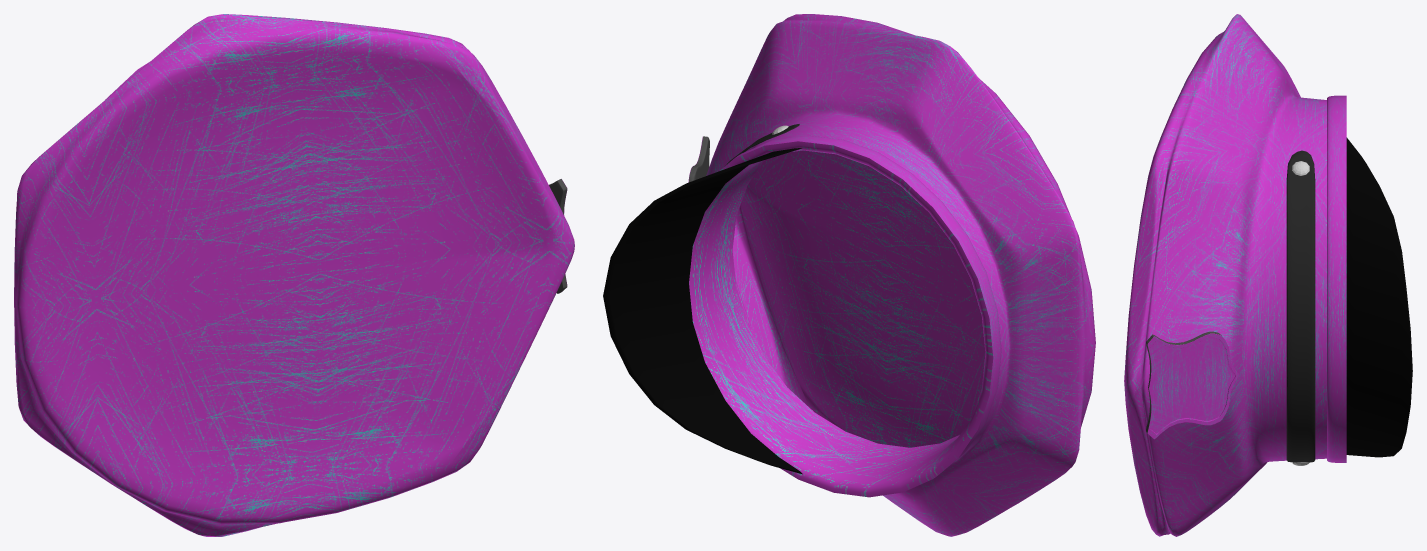
File: Police Hat.fbx
The picture shows the model from 3 angles, left to right: view 1: azimuth 30°, elevation 25°; view 2: azimuth 150°, elevation 25°; view 3: azimuth 270°, elevation 25°; orthographic projection. The views are drawn at different scales.
Visible parts, largest first — view 1: Object_8; view 2: Object_8, Object_2, Object_7; view 3: Object_8, Object_2, Object_6, Object_7, Object_3, Object_5.
Boxes of the visible parts, x1,y1,x2,y2 form: Object_8: [14, 14, 574, 536]; Object_8: [689, 14, 1095, 536]; Object_2: [603, 148, 802, 474]; Object_7: [735, 135, 1001, 477]; Object_8: [1124, 14, 1326, 536]; Object_2: [1346, 137, 1412, 457]; Object_6: [1286, 150, 1315, 462]; Object_7: [1327, 95, 1346, 462]; Object_3: [1147, 333, 1238, 439]; Object_5: [1146, 331, 1221, 433].
Bounding box in the file's own units: 185 × 192 × 106.
Materials: 7 (3 with a texture image).
